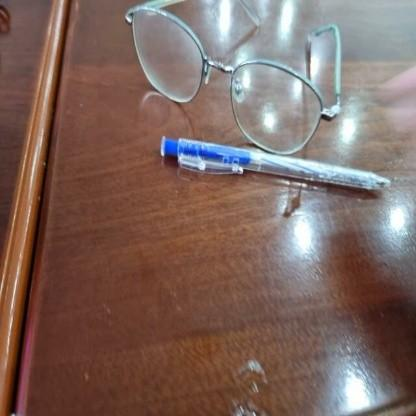not trash: (125, 0, 342, 154), (161, 137, 391, 191)
